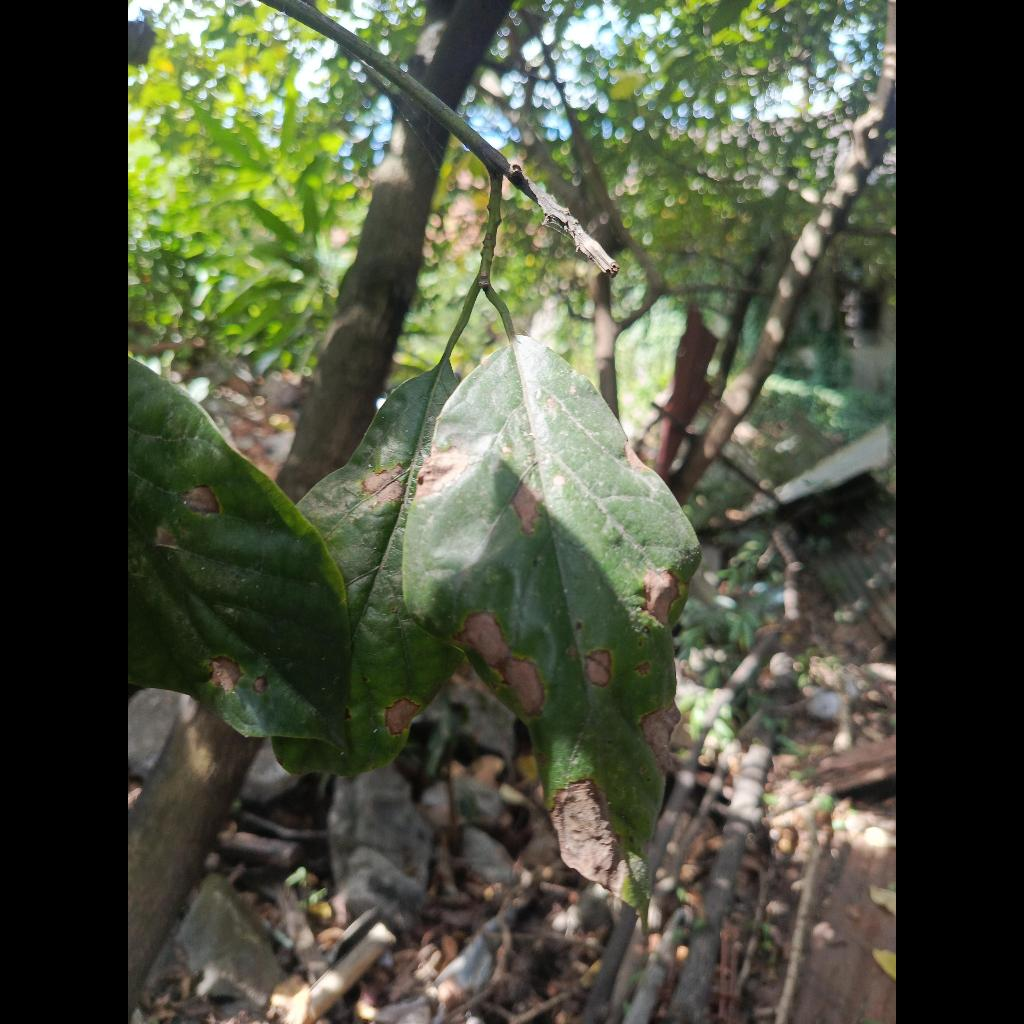antracnosis_hoja: (404, 336, 698, 908)
